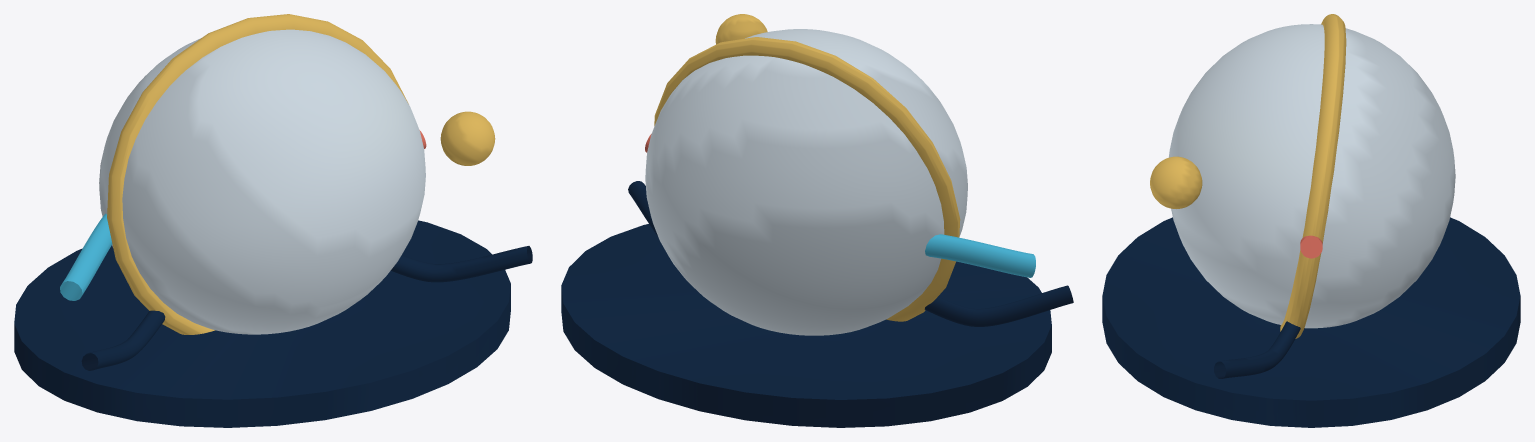
File: 1229_细胞图鉴_线粒体.glb
3 renders of one model, left to right at view 1: azimuth 30°, elevation 25°; view 2: azimuth 150°, elevation 25°; view 3: azimuth 270°, elevation 25°, orthographic. The views are drawn at different scales.
Parts seen in each view (by area): view 1: card_1229; view 2: card_1229; view 3: card_1229.
Boxes of the visible parts, box(x1,y1,x2,y2) form: card_1229: box(14, 14, 532, 427); card_1229: box(561, 14, 1073, 427); card_1229: box(1102, 14, 1520, 427).
Bounding box in the file's own units: 1.53 × 1 × 1.28.
